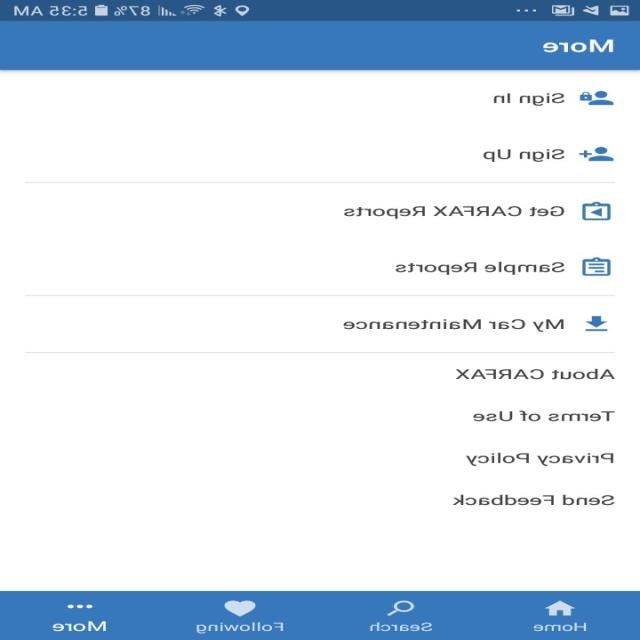Icon: (581, 257, 611, 276), (544, 599, 576, 616), (581, 202, 611, 220), (224, 600, 257, 616), (386, 599, 416, 616), (578, 147, 614, 161), (580, 91, 616, 105), (585, 316, 609, 331), (68, 604, 94, 608)
Text: (344, 205, 566, 219), (343, 318, 565, 332), (396, 260, 566, 275), (466, 451, 614, 466), (473, 409, 615, 422), (452, 494, 616, 505), (456, 368, 616, 379), (482, 148, 566, 162), (196, 621, 284, 634), (494, 92, 566, 106), (543, 39, 614, 53), (52, 620, 108, 632), (370, 621, 434, 631), (534, 622, 588, 632)
